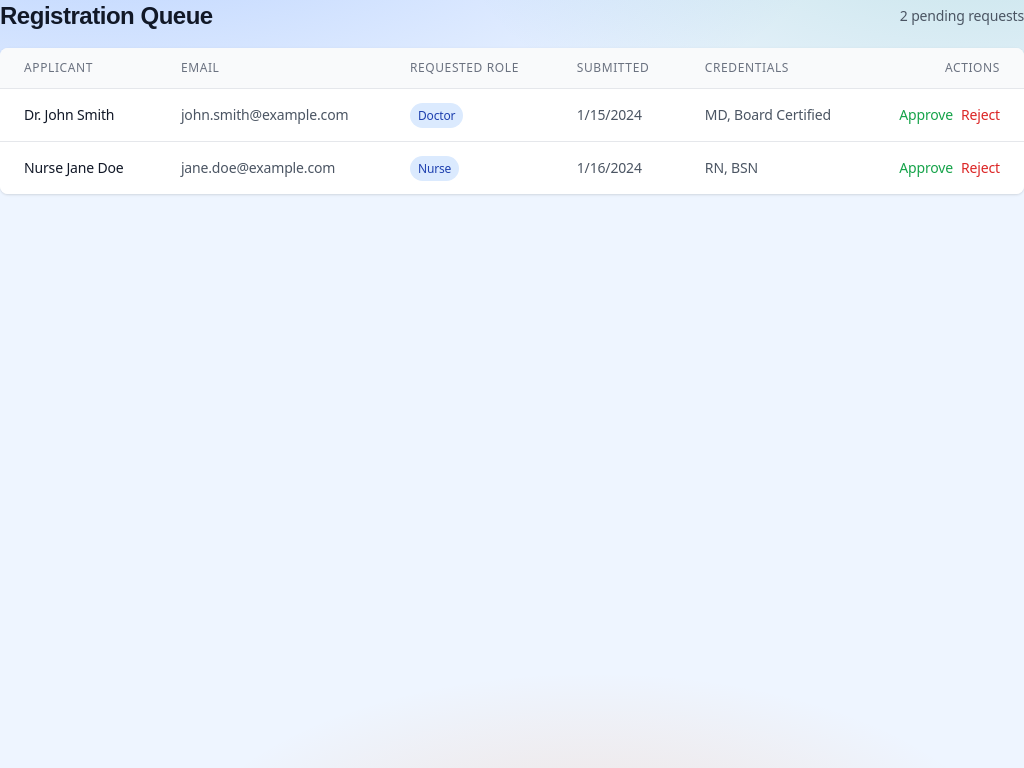
it: RegistrationQueue › requires rejection reason
The width and height of the screenshot is (1024, 768).
Check: the text "Dr. John Smith" is shown, box [0,88,157,142]
Click the button "Reject" in the row of "Dr. John Smith": (980, 115) [961,105,1000,125]
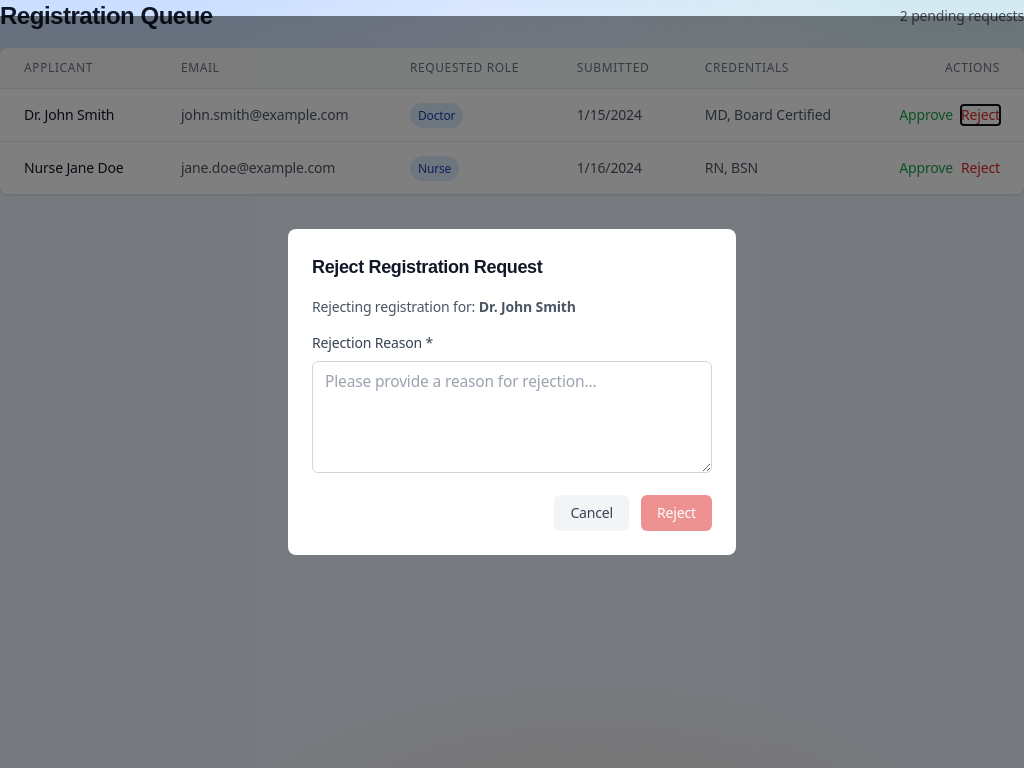
Check: the heading "Reject Registration Request" is shown, box [312,257,542,277]
Check: the button "Reject" is disabled, box [641,495,712,531]
